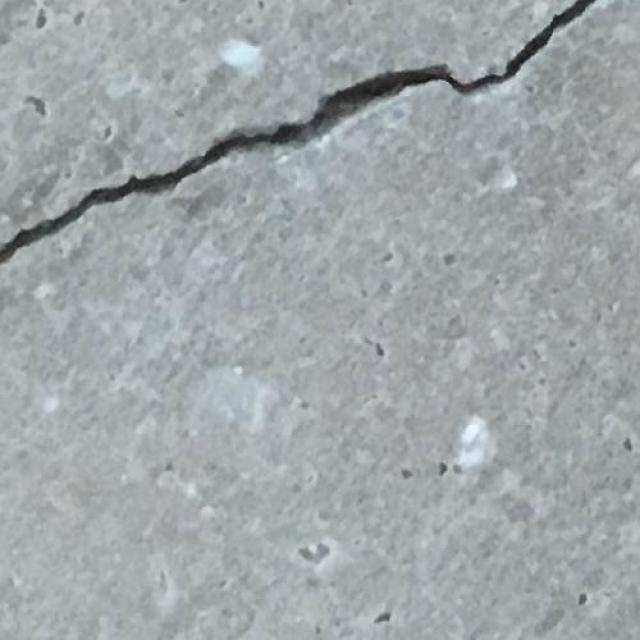diagonal crack: (0, 2, 639, 288)
